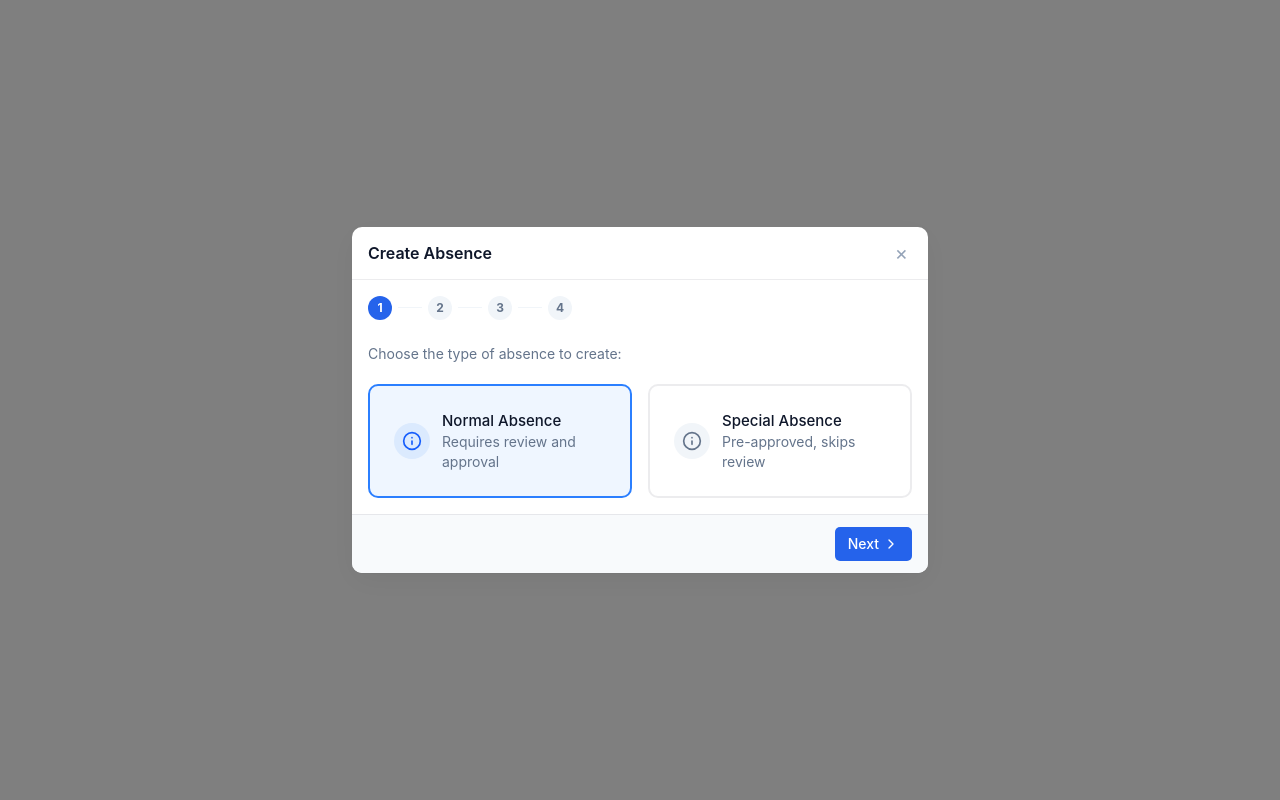
Scenario: StaffCreateAbsenceModal › shows error toast on student lookup failure
Click the button "Next": (873, 544) [835,527,912,561]
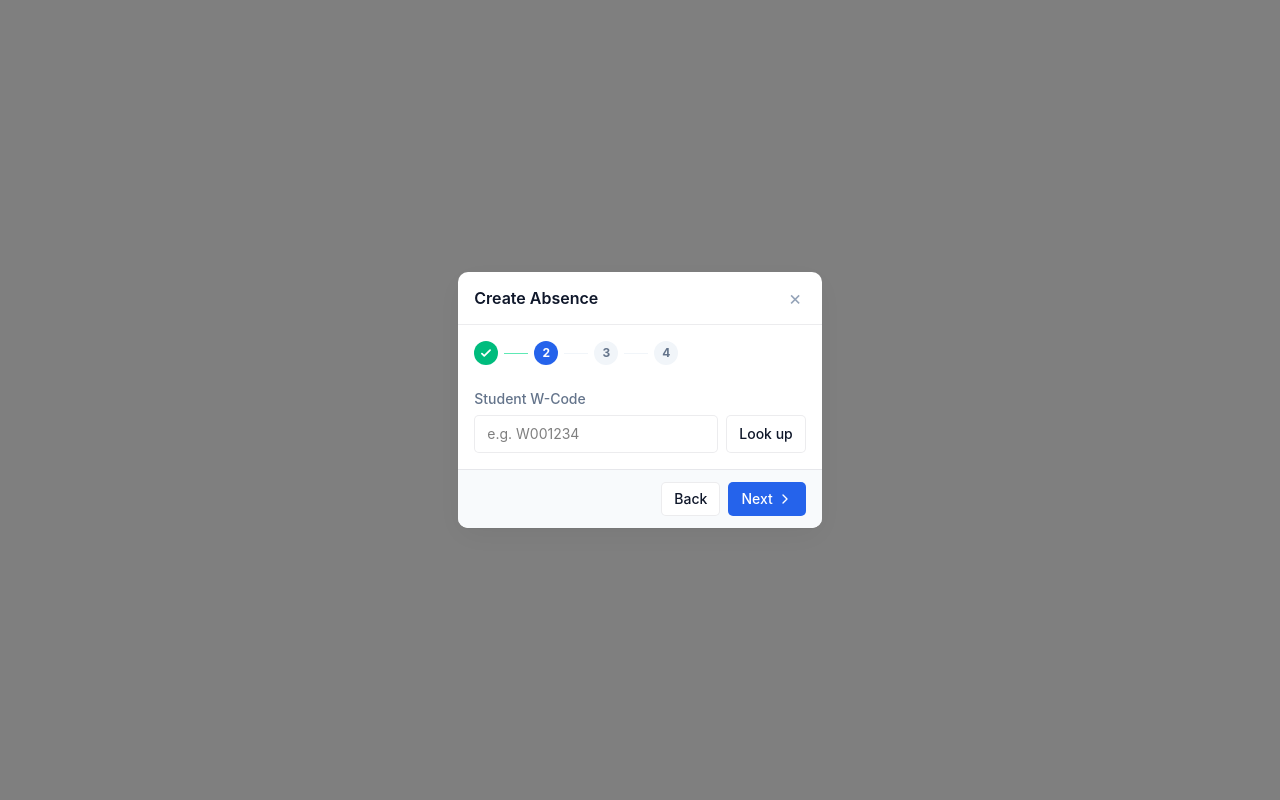
Expected: the field labelled "Student W-Code" is shown
In the field labelled "Student W-Code": (596, 434) [474,415,718,453], type "W999"
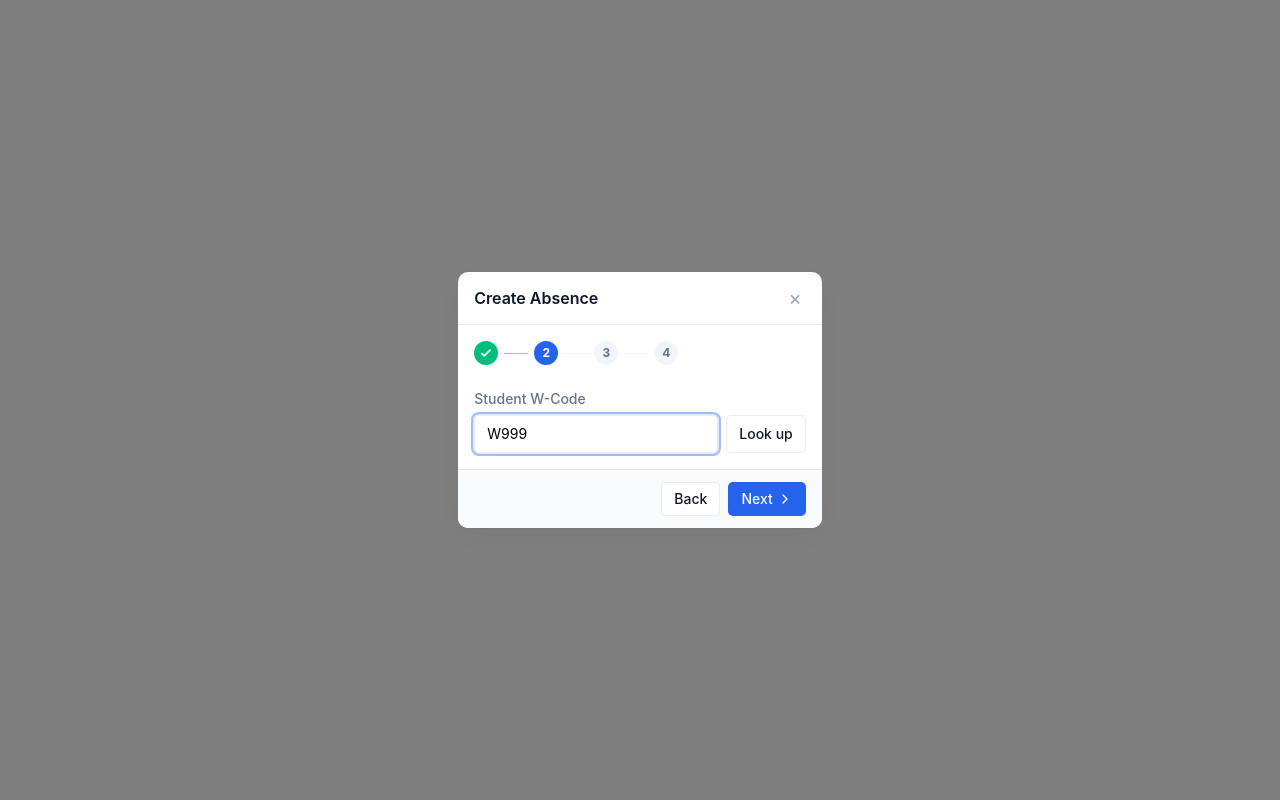
Click the button "Look up": (766, 434) [726,415,806,453]
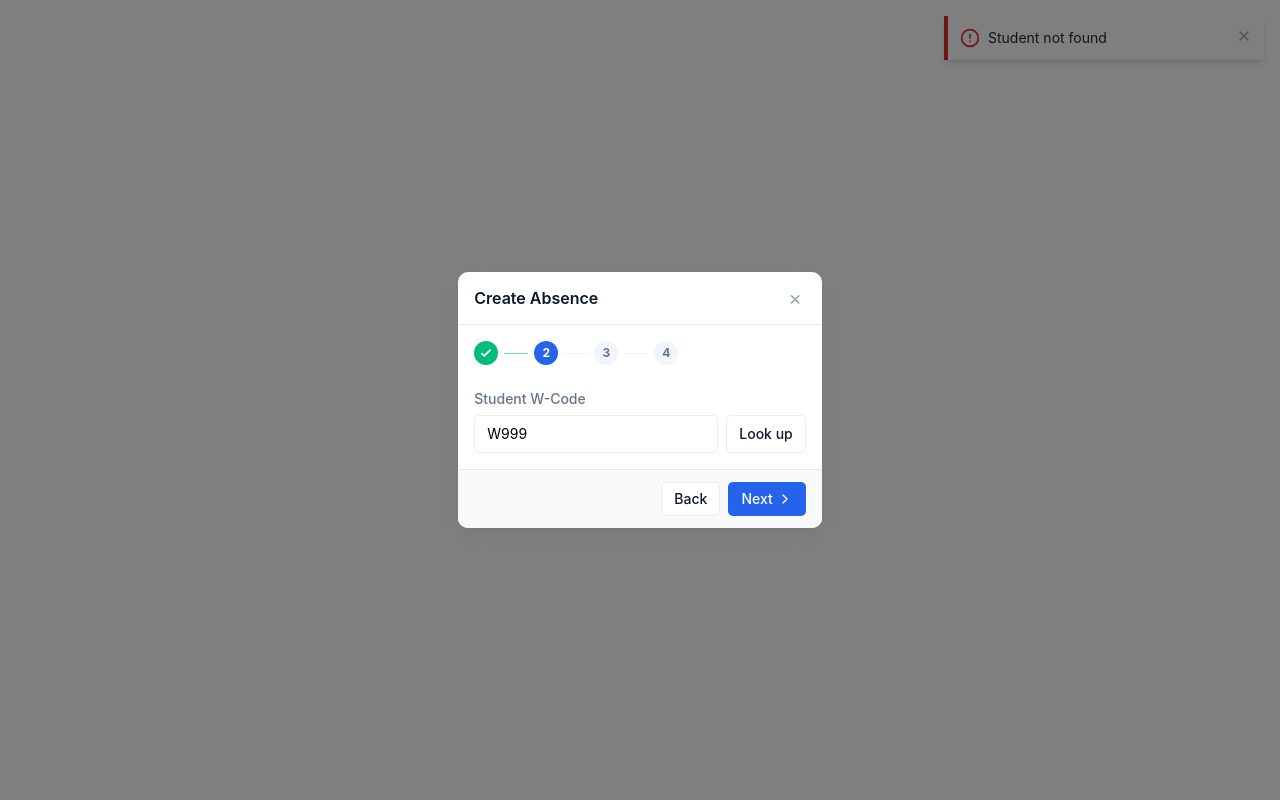
Expected: the text "Student not found" is shown, [988,29,1107,46]
